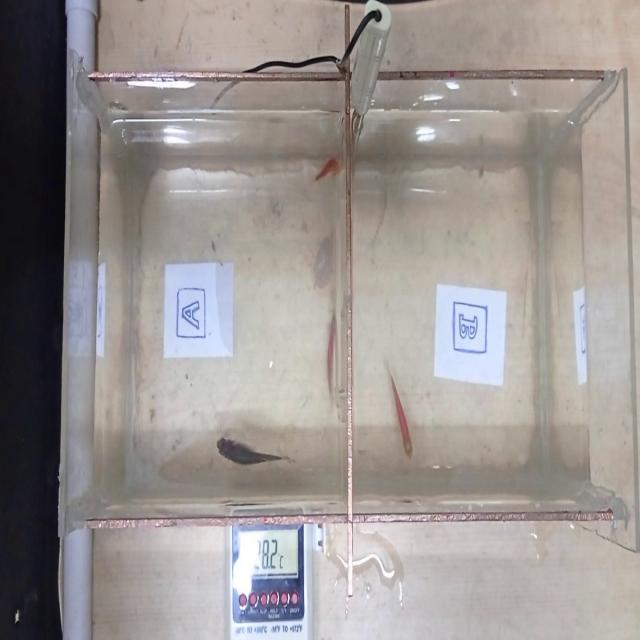Fish A1: (209, 414, 303, 482)
Fish A2: (311, 153, 343, 194)
Fish A3: (316, 308, 342, 416)
Fish B: (376, 349, 419, 474)
